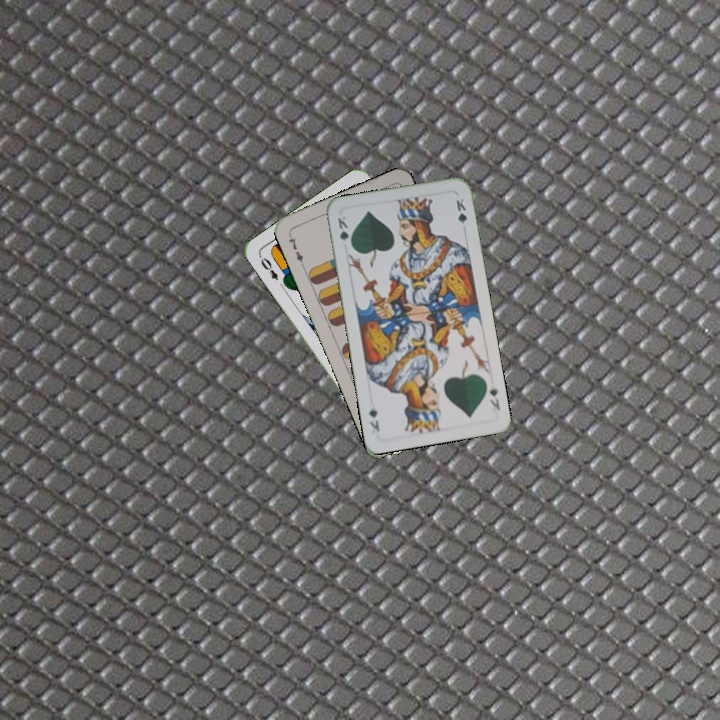E7: (284, 230, 306, 269)
EO: (255, 251, 281, 283)
GK: (333, 212, 354, 250), (485, 383, 503, 413)
